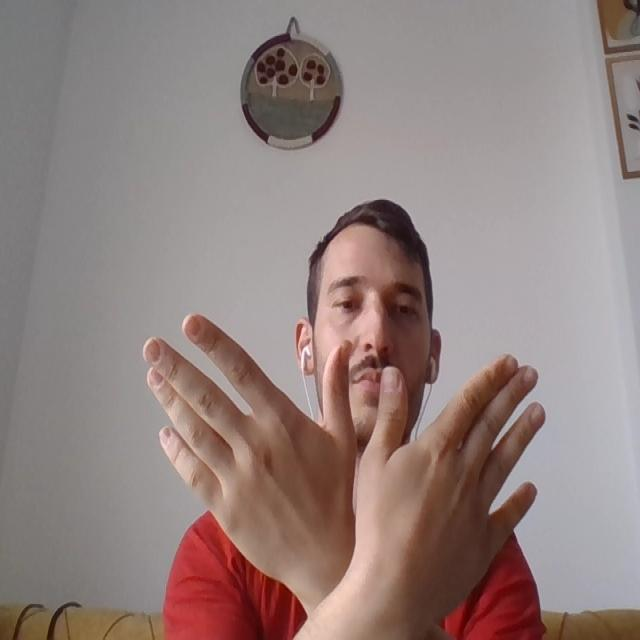thanks: (185, 347, 521, 598)
